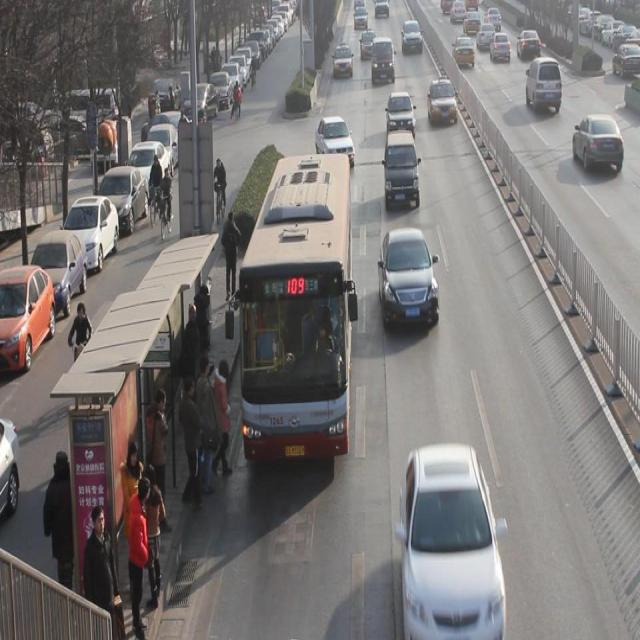car: (401, 442, 507, 634), (378, 226, 440, 327), (572, 114, 624, 172), (314, 116, 355, 168), (427, 76, 457, 124), (387, 92, 415, 134), (516, 29, 541, 60), (402, 20, 424, 55), (333, 42, 353, 78), (453, 34, 475, 66), (491, 32, 512, 62), (476, 21, 496, 49), (361, 28, 376, 61)
truck: (383, 130, 420, 208), (525, 56, 562, 112), (372, 36, 395, 83)
van: (240, 150, 351, 458)
